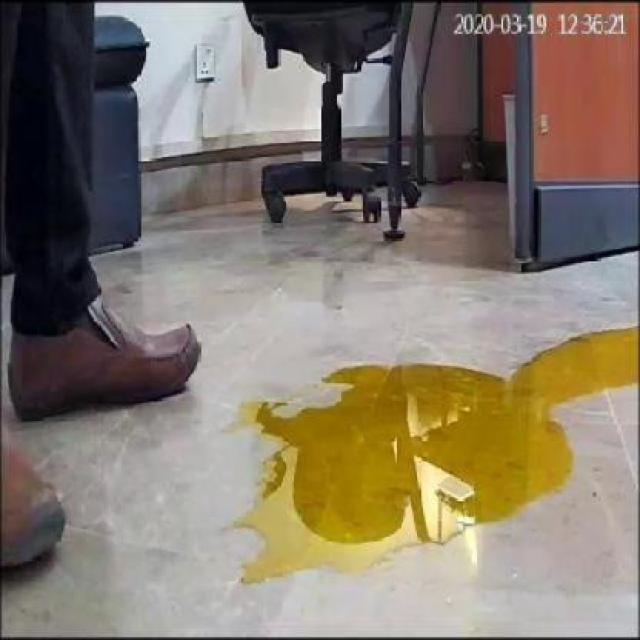spillage: (236, 327, 637, 584)
